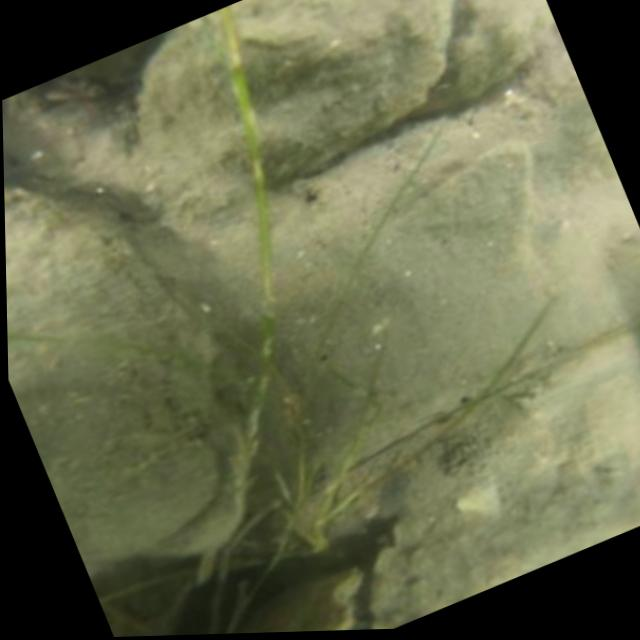Oyster-Closed: (4, 188, 233, 567)
Oyster-Indeterminate: (372, 370, 640, 629), (229, 0, 447, 172), (426, 0, 542, 109), (230, 566, 362, 634)
